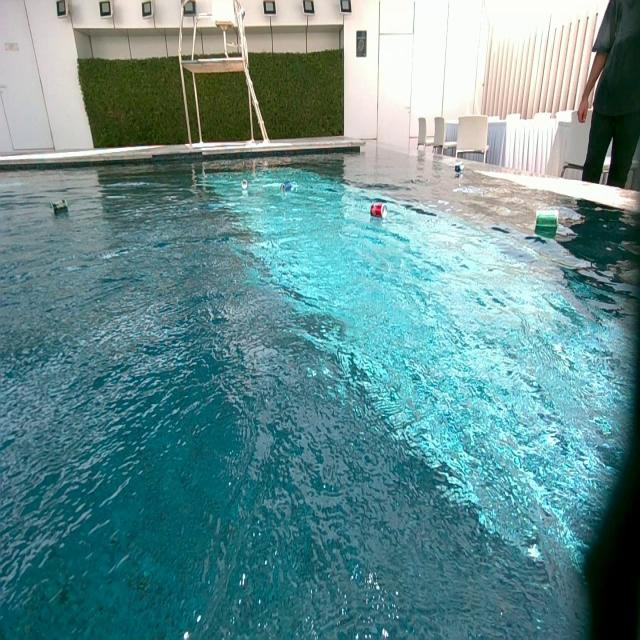Cans: (535, 211, 558, 232), (53, 200, 69, 217), (372, 203, 386, 218), (282, 181, 296, 194), (454, 164, 464, 174), (242, 179, 248, 189)
